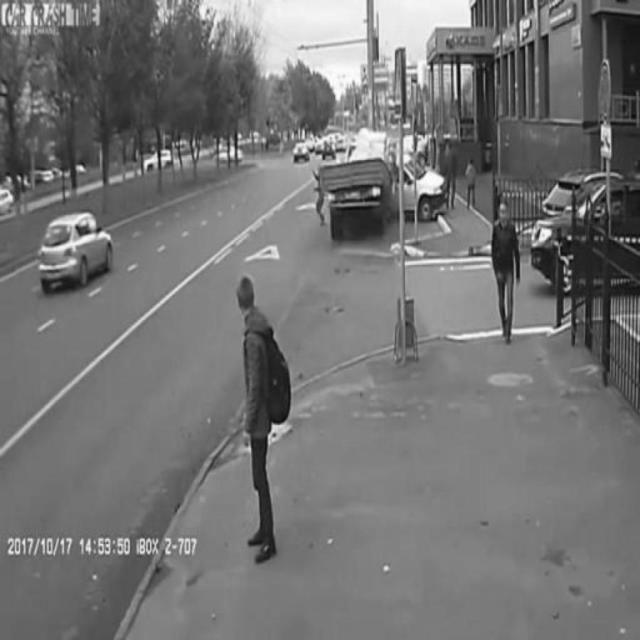accident: (322, 145, 448, 233)
person: (231, 277, 289, 568), (494, 204, 522, 345), (464, 157, 480, 211)
vehicle: (535, 177, 639, 298), (45, 212, 113, 289)
